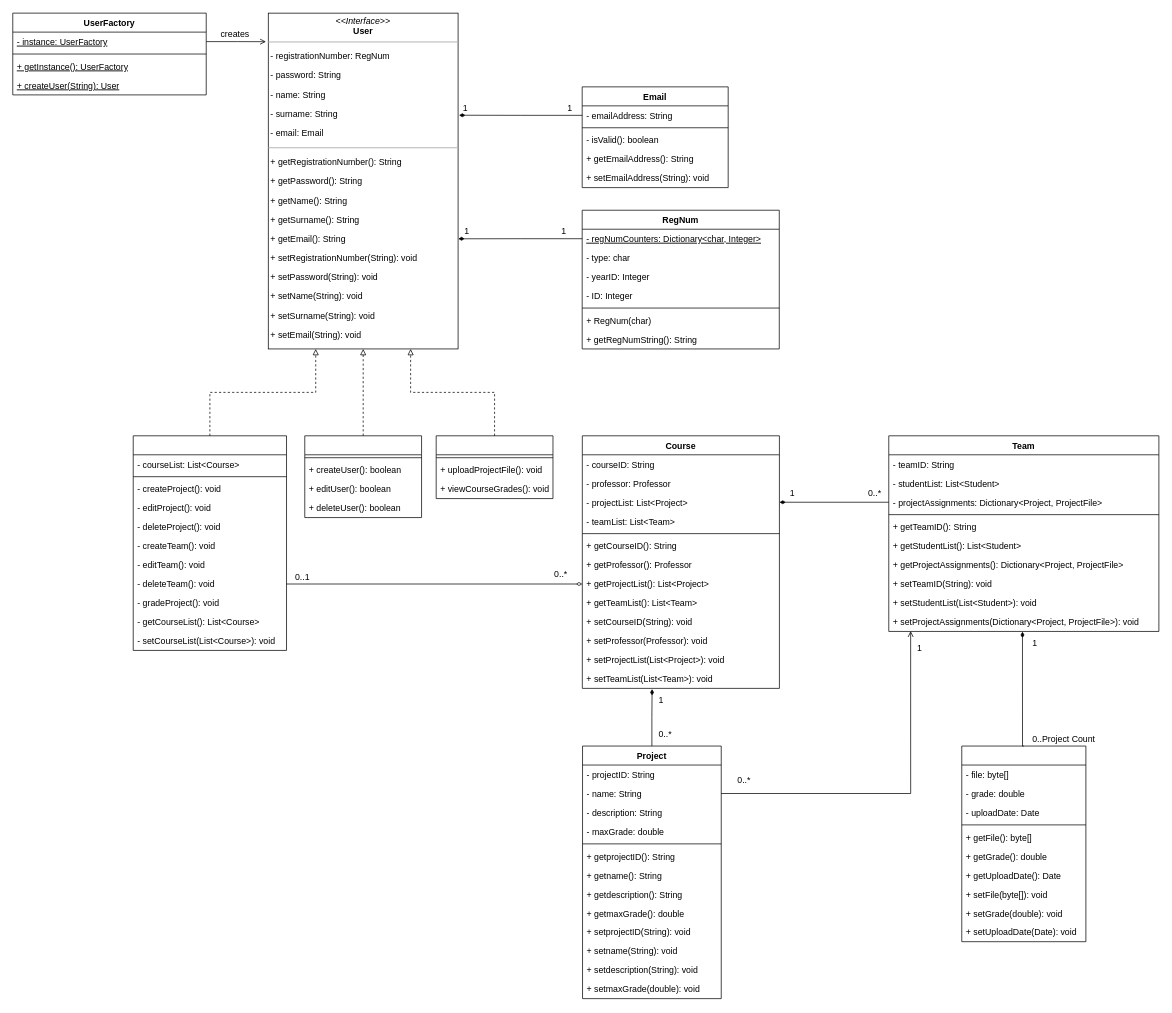
The diagram is 1172 pixels wide and 1013 high, and some of its shapes have lost their labels. Each missing label, with the box of its shape:
Admin: (304, 435, 422, 518)
Professor: (132, 435, 287, 650)
ProjectFile: (961, 745, 1086, 942)
Student: (435, 435, 553, 499)
